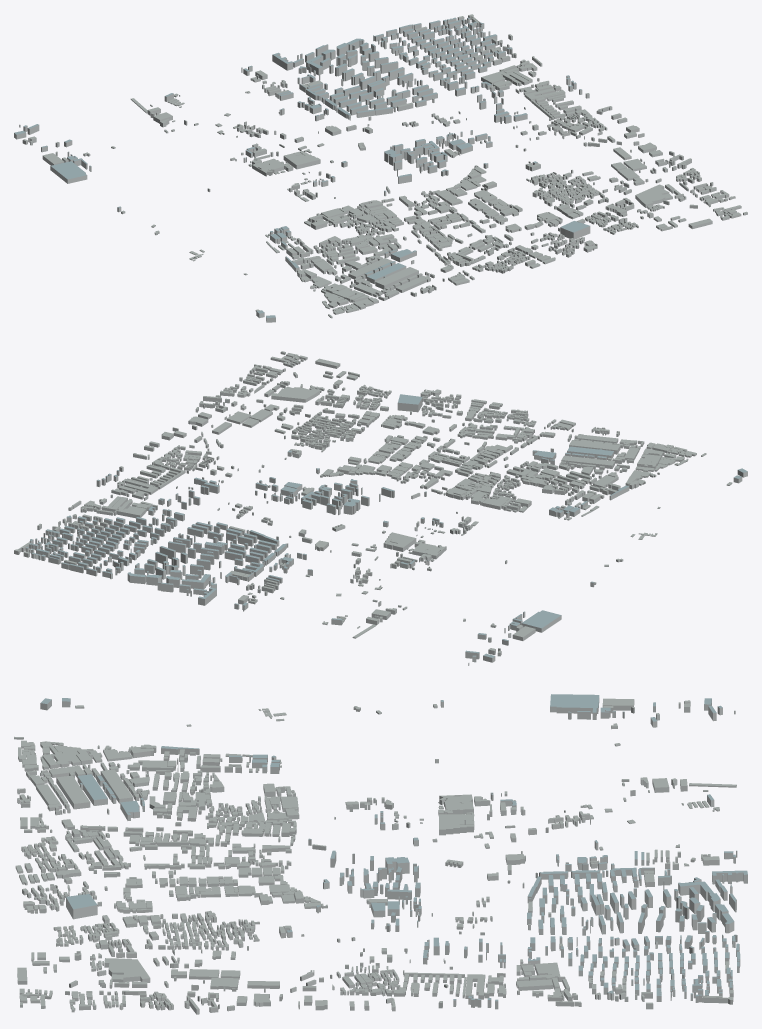
Rendered from far.glb.
3 renders of one model, top to bottom at view 1: azimuth 30°, elevation 25°; view 2: azimuth 150°, elevation 25°; view 3: azimuth 270°, elevation 25°, orthographic. The views are drawn at different scales.
Size of the model in its own units: 2159 by 39.52 by 2127.
